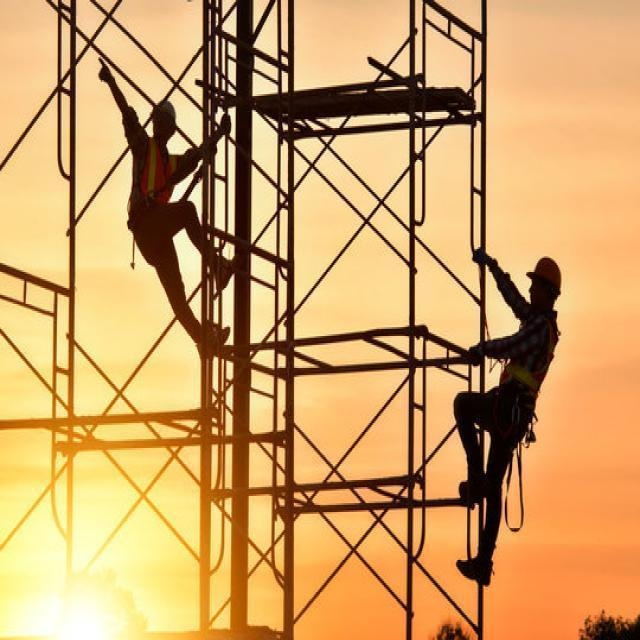Arnes_seguridad: (499, 365, 540, 431), (127, 188, 175, 226)
